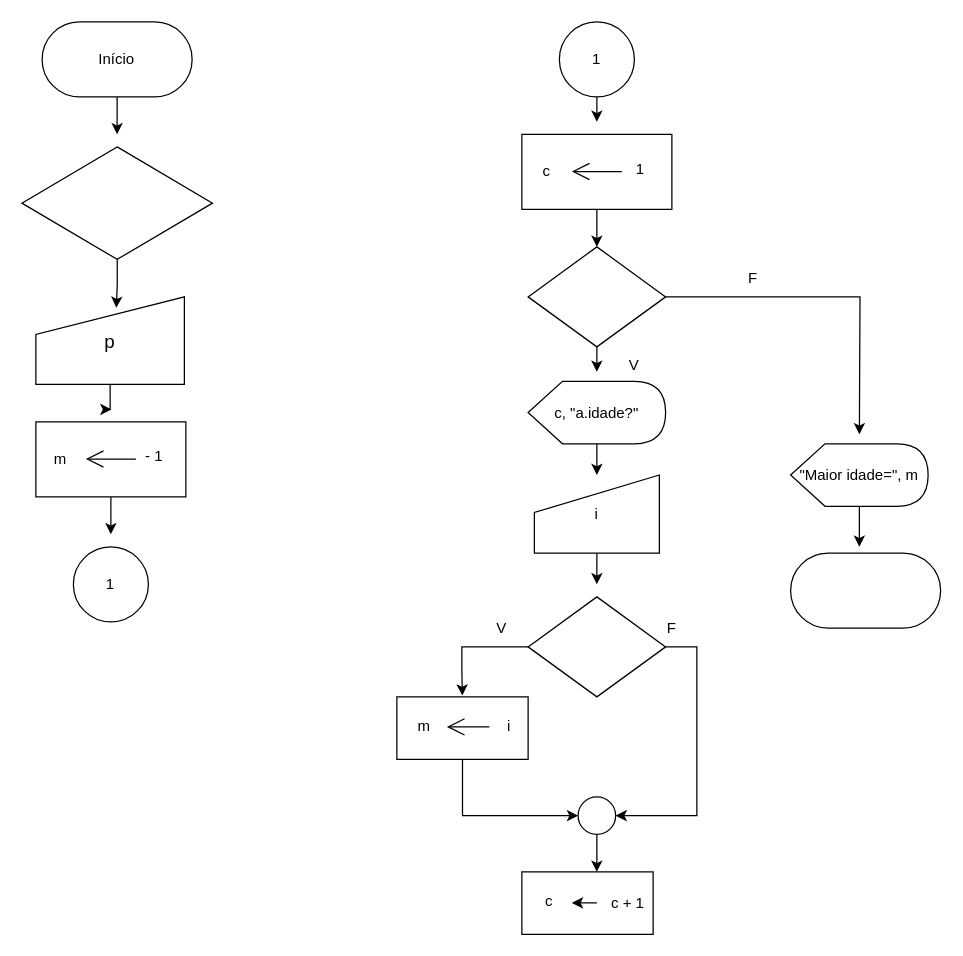
This 963x956 diagram has some shape labels left out. The centre of each missing label's shape, as x and y in pixels:
"Número de pacientes": pixel 116 202
c ≤ p: pixel 596 296
Fim: pixel 865 590
i > m: pixel 596 646
